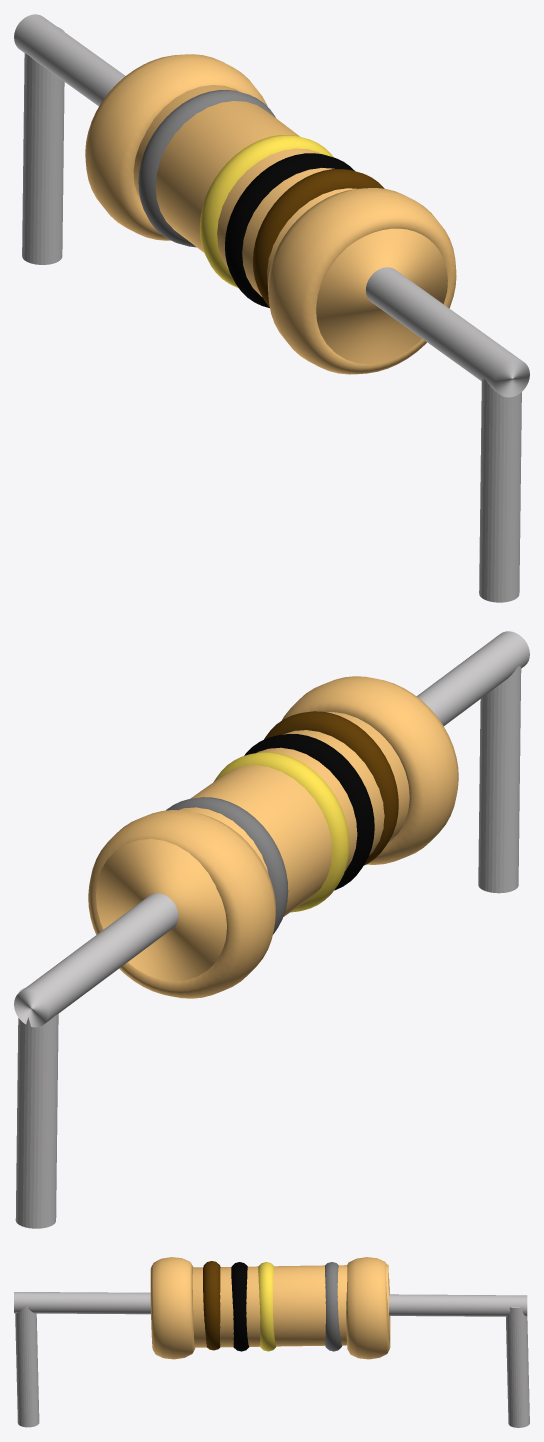
File: Resistor 100000.fbx
3 renders of one model, top to bottom at view 1: azimuth 30°, elevation 25°; view 2: azimuth 150°, elevation 25°; view 3: azimuth 270°, elevation 25°, orthographic. The views are drawn at different scales.
Parts seen in each view (by area): view 1: Torus.001, Cylinder.001, Cylinder.002, Cylinder.004; view 2: Torus.001, Cylinder.001, Cylinder.002, Cylinder.004; view 3: Torus.001, Cylinder.001, Cylinder.004, Cylinder.002.
Boxes of the visible parts, x1,y1,x2,y2 form: Torus.001: [85, 54, 456, 374]; Cylinder.001: [14, 14, 529, 397]; Cylinder.002: [479, 378, 521, 602]; Cylinder.004: [22, 27, 64, 264]; Torus.001: [88, 676, 458, 998]; Cylinder.001: [14, 631, 529, 1027]; Cylinder.002: [478, 666, 521, 893]; Cylinder.004: [15, 988, 58, 1228]; Torus.001: [150, 1257, 390, 1359]; Cylinder.001: [14, 1292, 527, 1316]; Cylinder.004: [506, 1307, 529, 1427]; Cylinder.002: [15, 1307, 39, 1427].
Bounding box in the file's own units: 147 × 247 × 719.
